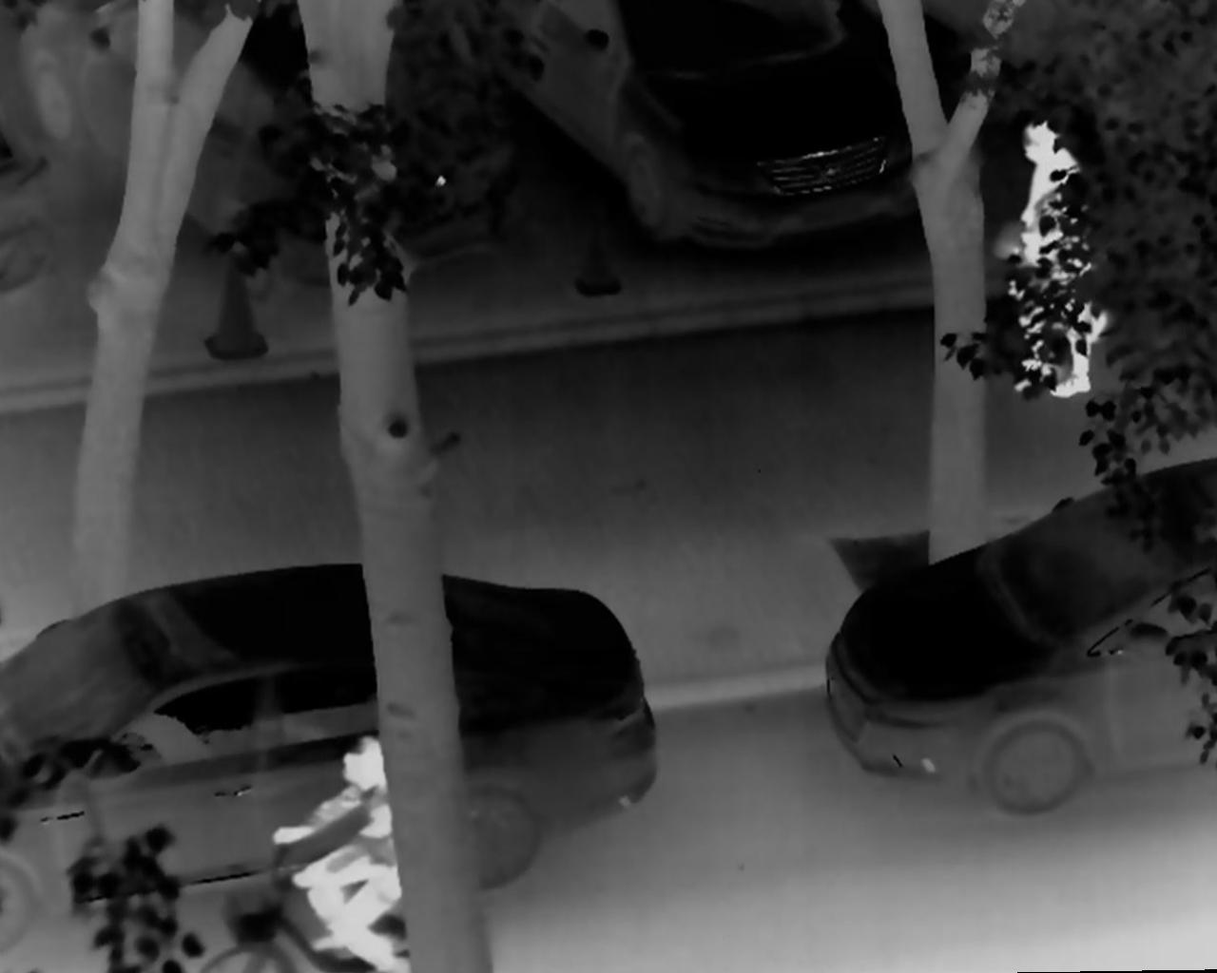person: (262, 734, 430, 973), (985, 106, 1117, 375), (1003, 143, 1108, 402)
